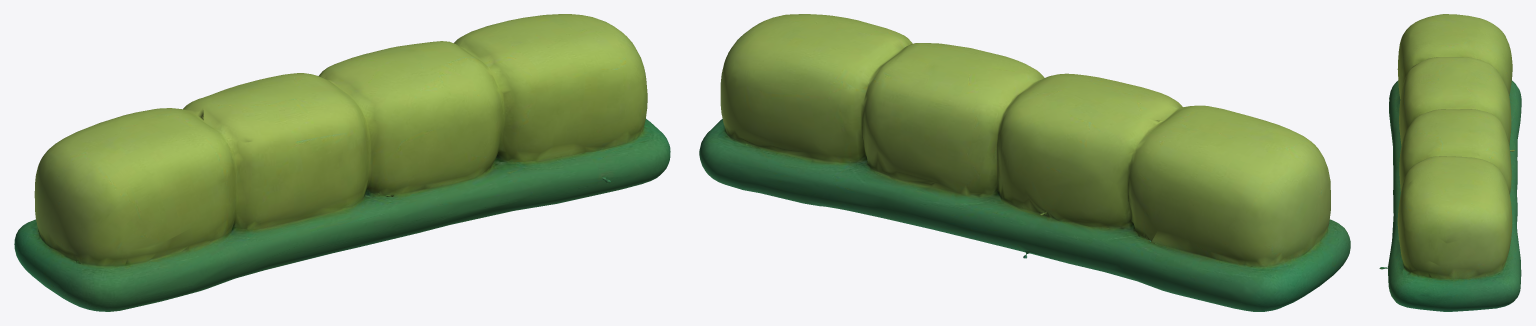
File: prop-low-hedge.glb
3 views of the same model, side by side, from view 1: azimuth 30°, elevation 25°; view 2: azimuth 150°, elevation 25°; view 3: azimuth 270°, elevation 25° (orthographic). The views are drawn at different scales.
Visible parts, largest first — view 1: Mesh_0; view 2: Mesh_0; view 3: Mesh_0.
Part boxes in pixels (<box>): Mesh_0: <box>14,14,670,311</box>; Mesh_0: <box>699,14,1350,311</box>; Mesh_0: <box>1379,14,1521,311</box>.
Bounding box in the file's own units: 2 × 0.4748 × 0.5519.
Materials: 1 (1 with a texture image).
